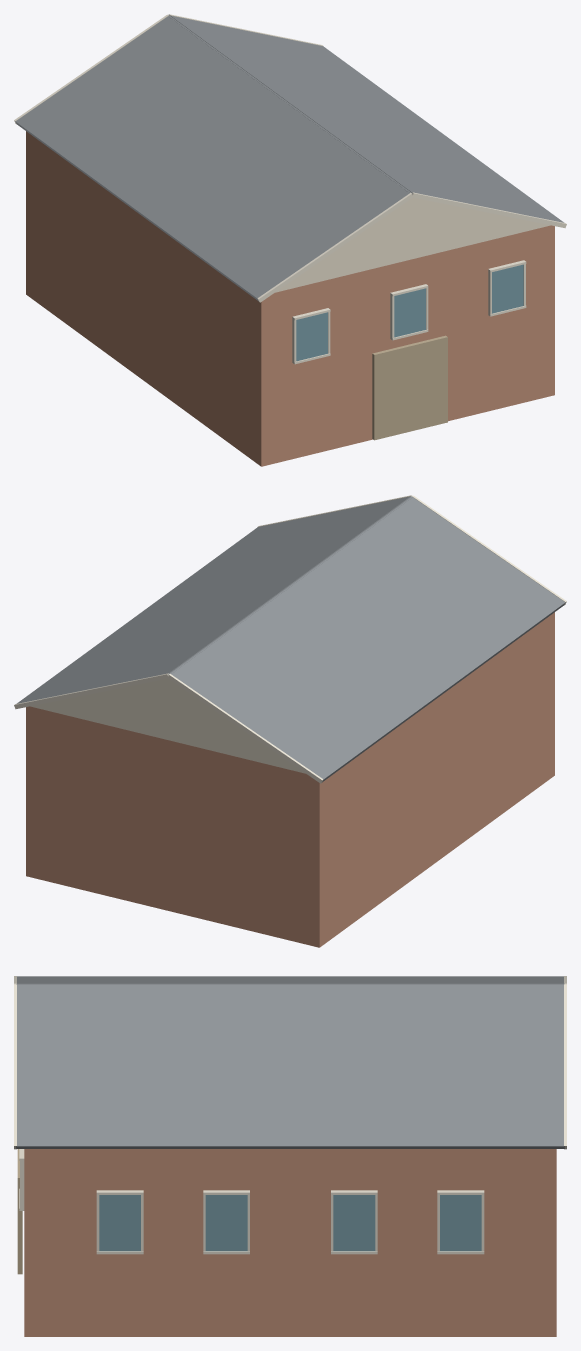
Rendered from rhine-warehouse_lod1.glb.
The picture shows the model from 3 angles, top to bottom: view 1: azimuth 30°, elevation 25°; view 2: azimuth 150°, elevation 25°; view 3: azimuth 270°, elevation 25°; orthographic projection. The views are drawn at different scales.
Visible parts, largest first — view 1: RF_IndustrialHall, RF_Roof.001, RF_Roof, RF_Gable, RF_LoadingDoor, RF_Window.005, RF_Window, RF_Window.006, RF_Vergeband.001, RF_Vergeband.003, RF_Ridge; view 2: RF_IndustrialHall, RF_Roof.001, RF_Roof, RF_Gable.001, RF_Vergeband.002, RF_Vergeband, RF_Ridge; view 3: RF_Roof, RF_IndustrialHall, RF_Roof.001, RF_Window.002, RF_Window.003, RF_Window.001, RF_Window.004, RF_LoadingDoor, RF_Ridge, RF_Vergeband.003, RF_Vergeband.
Part boxes in pixels (box(x1,y1,x2,y2)): RF_IndustrialHall: box(26, 131, 554, 466); RF_Roof.001: box(15, 16, 410, 301); RF_Roof: box(170, 15, 564, 222); RF_Gable: box(275, 197, 550, 292); RF_LoadingDoor: box(372, 335, 447, 440); RF_Window.005: box(296, 312, 327, 361); RF_Window: box(492, 264, 523, 313); RF_Window.006: box(394, 288, 425, 337); RF_Vergeband.001: box(257, 193, 413, 302); RF_Vergeband.003: box(412, 192, 566, 228); RF_Ridge: box(168, 15, 412, 193); RF_IndustrialHall: box(26, 612, 554, 947); RF_Roof.001: box(170, 497, 565, 782); RF_Roof: box(16, 496, 410, 703); RF_Gable.001: box(30, 678, 305, 773); RF_Vergeband.002: box(167, 674, 323, 783); RF_Vergeband: box(14, 673, 168, 709); RF_Ridge: box(168, 496, 412, 674); RF_Roof: box(16, 984, 564, 1148); RF_IndustrialHall: box(24, 1149, 556, 1336); RF_Roof.001: box(16, 976, 564, 984); RF_Window.002: box(205, 1195, 247, 1251); RF_Window.003: box(333, 1195, 375, 1251); RF_Window.001: box(99, 1195, 140, 1251); RF_Window.004: box(440, 1195, 481, 1251); RF_LoadingDoor: box(17, 1149, 22, 1274); RF_Ridge: box(17, 984, 563, 984); RF_Vergeband.003: box(14, 984, 16, 1149); RF_Vergeband: box(564, 984, 566, 1149).
Bounding box in the file's own units: 18.89 × 14.11 × 25.98.
